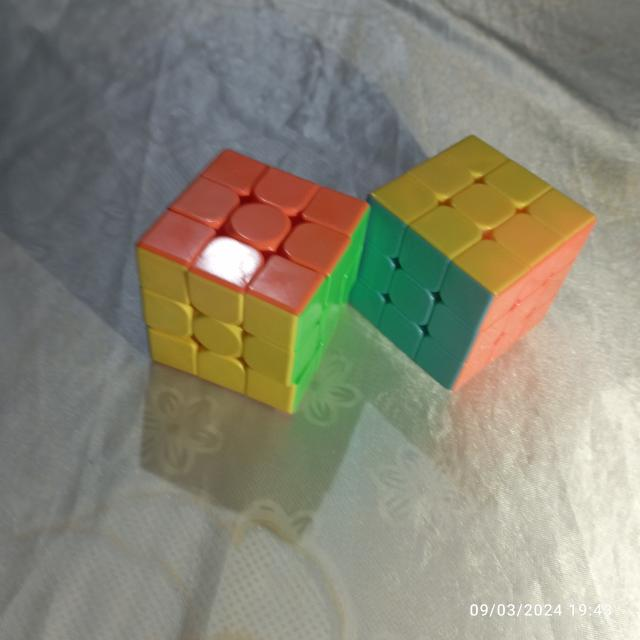Rub: (334, 129, 599, 392), (130, 143, 376, 421)
